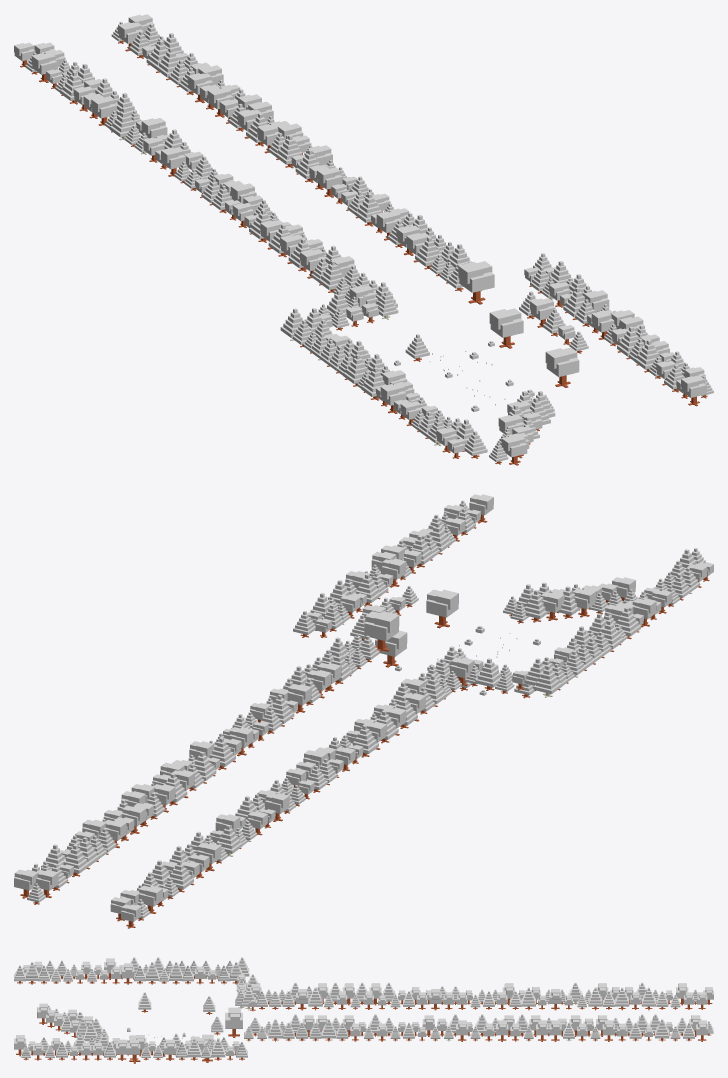
Rendered from Foliage.fbx.
3 views of the same model, one above another, from view 1: azimuth 30°, elevation 25°; view 2: azimuth 150°, elevation 25°; view 3: azimuth 270°, elevation 25° (orthographic). The views are drawn at different scales.
Visible parts, largest first — view 1: no part large enough to name; view 2: no part large enough to name; view 3: Tree_LaneAnchor_Canopy0.
Part boxes in pixels (x1,y1,x2,y2): Tree_LaneAnchor_Canopy0: (225, 1012, 242, 1028).
Size of the model in its own units: 310 by 75.15 by 1050.
